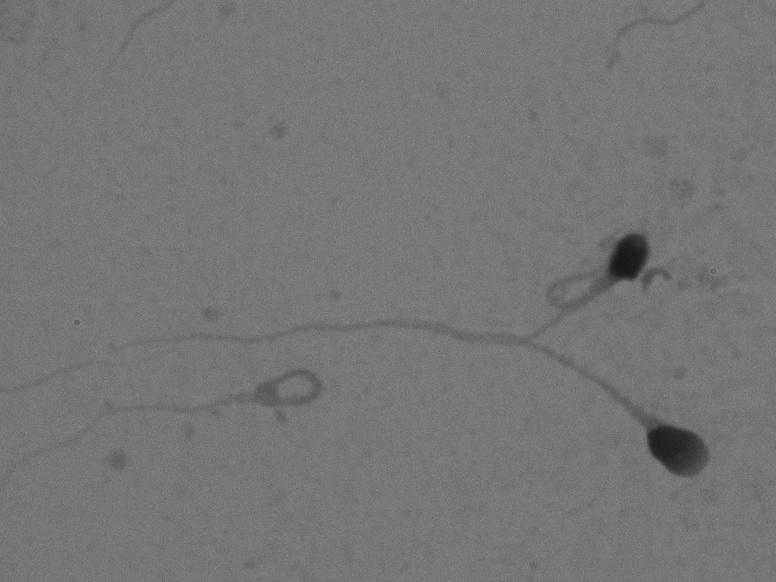Abnormal: (28, 304, 747, 508), (135, 197, 694, 352)
